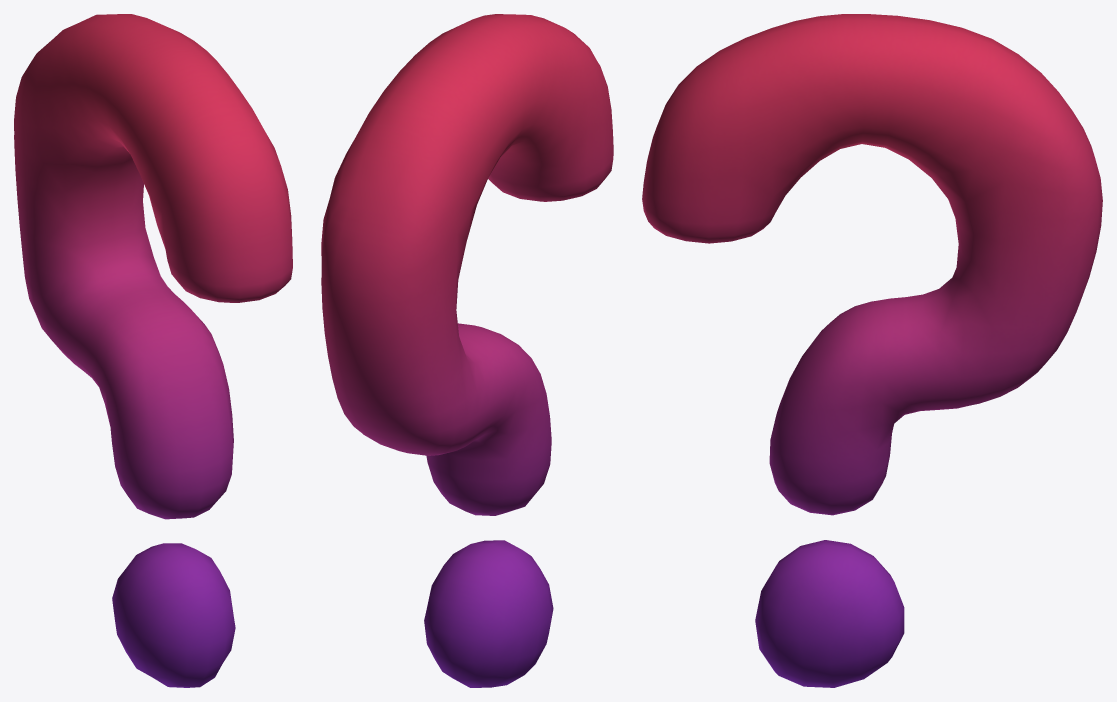
Rendered from QuestionMarkTripleTwo.dae.
3 views of the same model, side by side, from view 1: azimuth 30°, elevation 25°; view 2: azimuth 150°, elevation 25°; view 3: azimuth 270°, elevation 25° (orthographic). The views are drawn at different scales.
Parts seen in each view (by area): view 1: Cube_005; view 2: Cube_005; view 3: Cube_005.
Boxes of the visible parts, x1,y1,x2,y2 form: Cube_005: (14, 14, 292, 687); Cube_005: (321, 14, 613, 687); Cube_005: (642, 14, 1102, 687).
Bounding box in the file's own units: 0.5194 × 1.83 × 2.91.
Materials: 1 (1 with a texture image).
